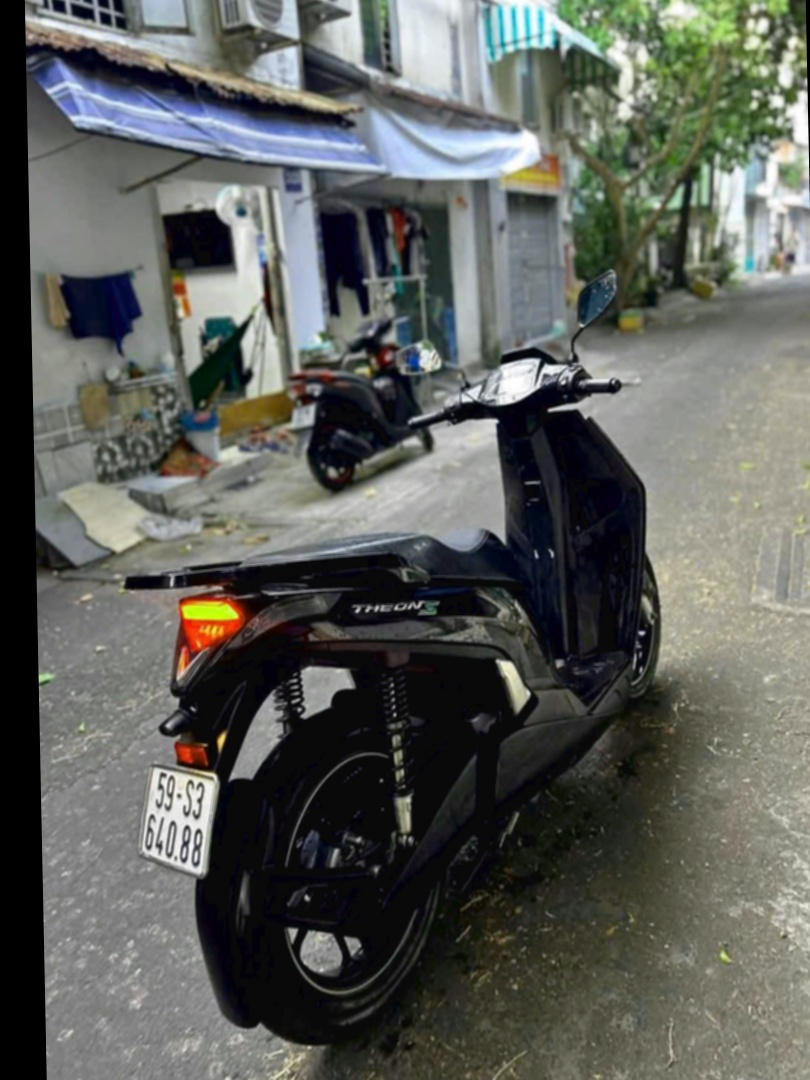Bien-so: (134, 754, 221, 881)
